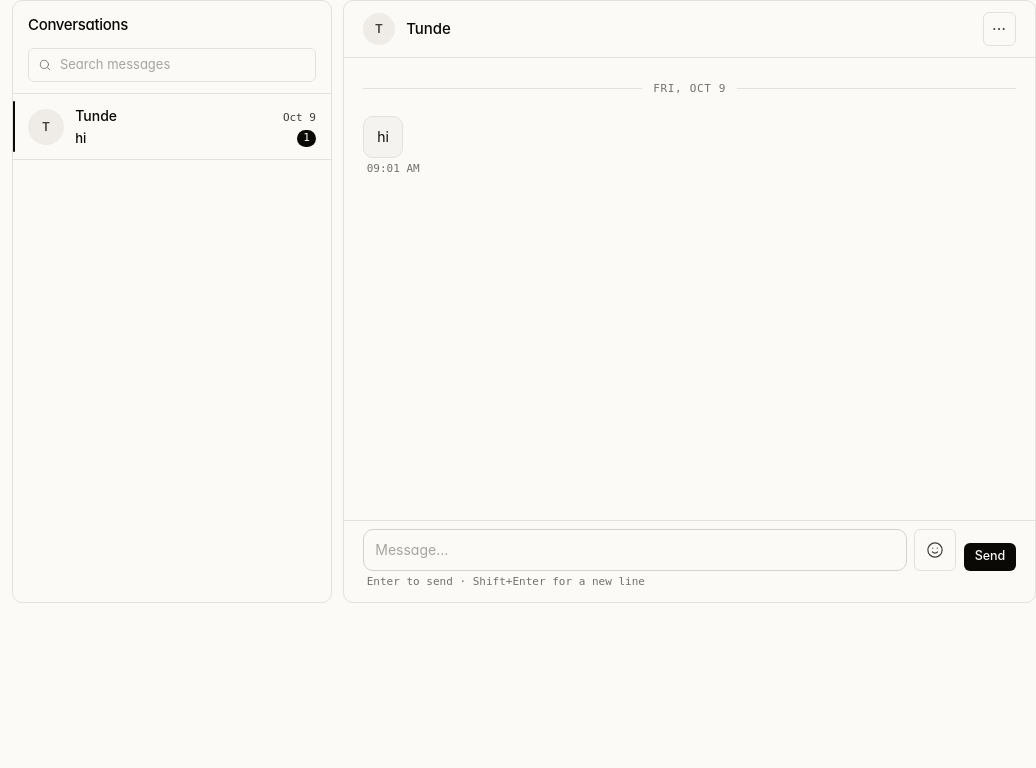
Test: MessagingCenter: sending (CONTRACT §6.2) › after the automatic retries it fails with Retry and Discard; Retry reuses the id
The width and height of the screenshot is (1036, 768).
Expected: the text "hi" is shown, [363, 116, 403, 158]
Type "stubborn" into the text box named "Message ". click: (635,550)
box: [363, 528, 907, 570]
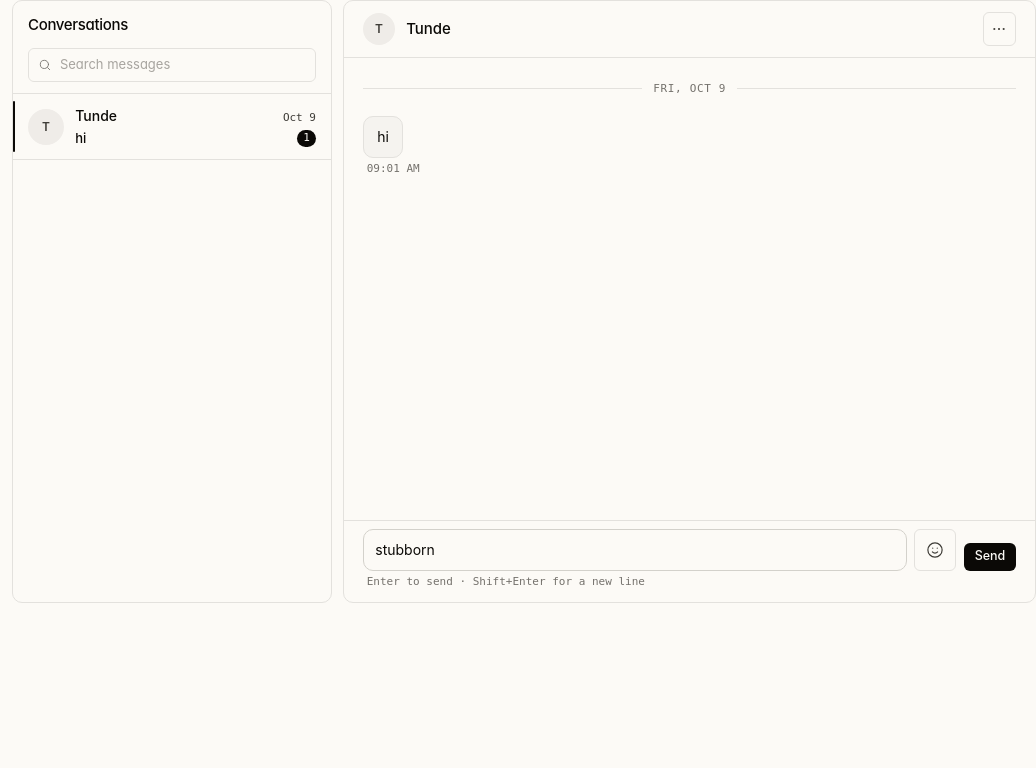
Press Enter in the text box named "Message ", box [363, 528, 907, 570]
Wait 20100 ms
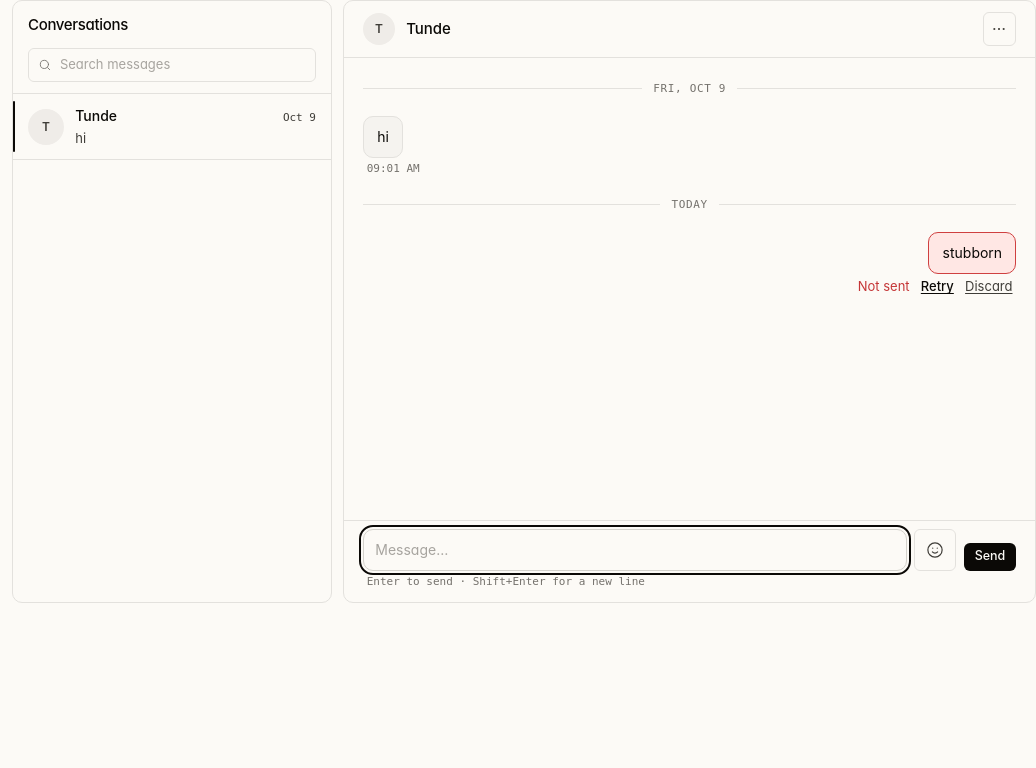
Expected: the text "Not sent" is shown, [858, 277, 910, 297]
Click the button "Retry". click: (937,287)
box: [921, 277, 954, 297]
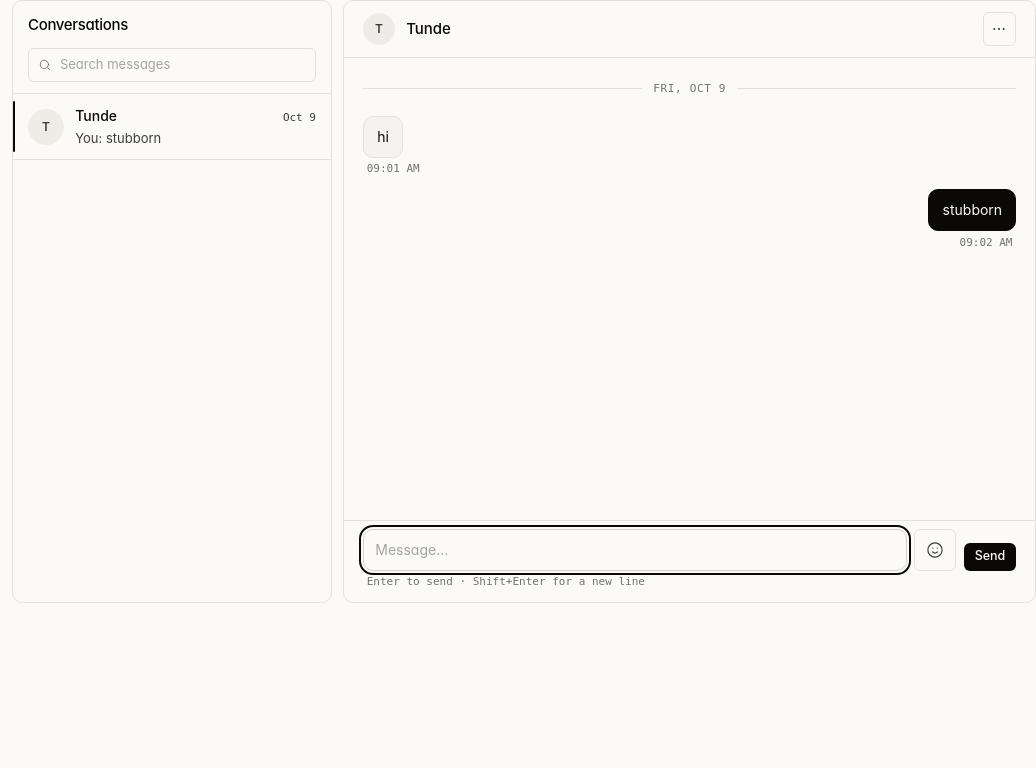
Expected: the text "stubborn" is shown, [928, 189, 1016, 231]
Expected: the text "Not sent" is gone
